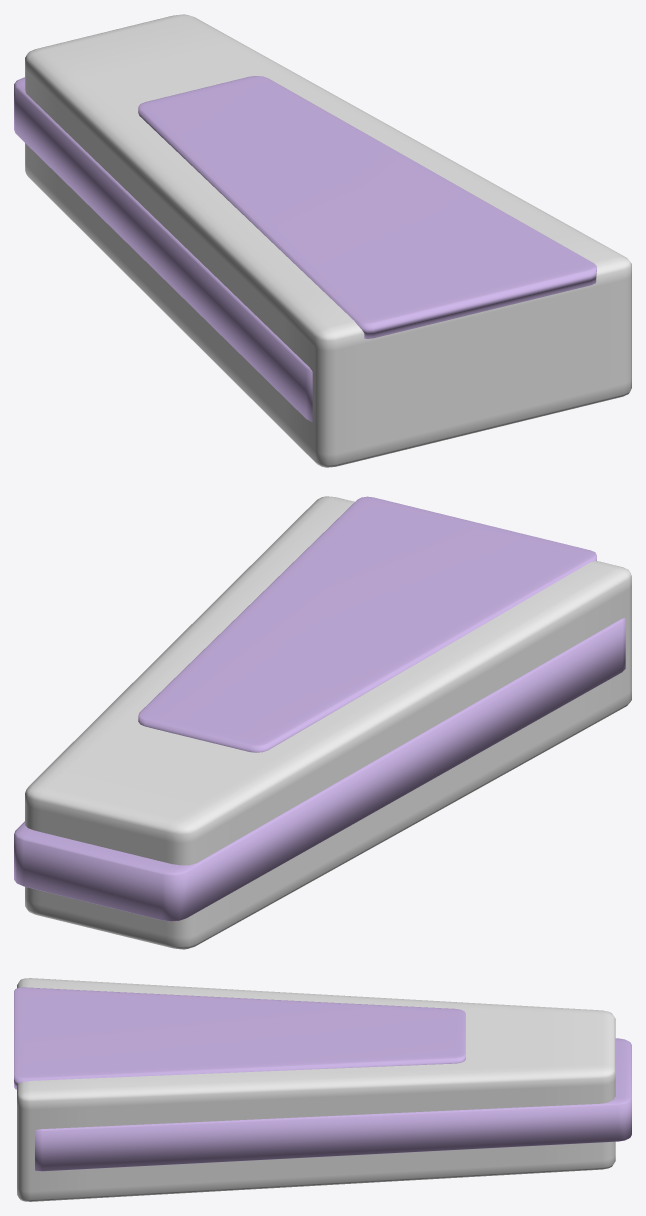
Rendered from INSTRUMENT-KEY0.fbx.
3 views of the same model, one above another, from view 1: azimuth 30°, elevation 25°; view 2: azimuth 150°, elevation 25°; view 3: azimuth 270°, elevation 25° (orthographic). The views are drawn at different scales.
Visible parts, largest first — view 1: KeyShell.08, KeyGfx.08, KeyIndicator.08; view 2: KeyShell.08, KeyGfx.08, KeyIndicator.08; view 3: KeyShell.08, KeyGfx.08, KeyIndicator.08.
Part boxes in pixels (x1,y1,x2,y2): KeyShell.08: (25,14,631,467); KeyGfx.08: (138,76,596,338); KeyIndicator.08: (14,77,312,421); KeyShell.08: (25,496,631,949); KeyGfx.08: (138,496,596,752); KeyIndicator.08: (14,618,625,921); KeyShell.08: (17,978,615,1201); KeyGfx.08: (14,987,465,1089); KeyIndicator.08: (35,1038,631,1171).
Size of the model in its own units: 237 by 101 by 505.
